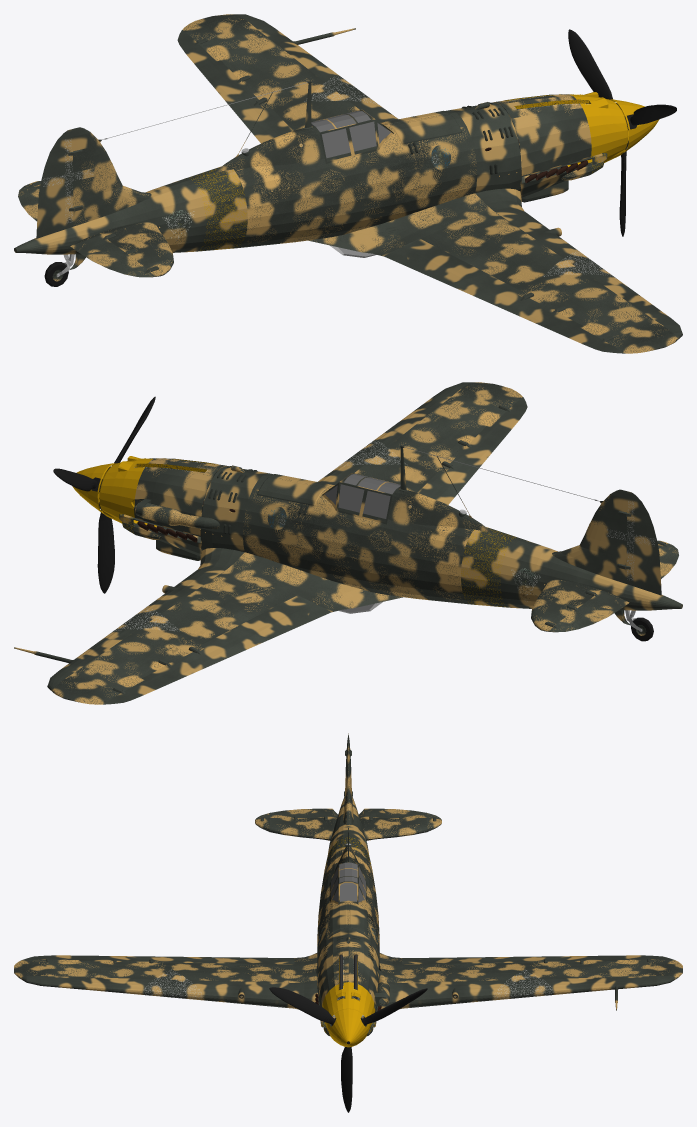
3 views of the same model, one above another, from view 1: azimuth 30°, elevation 25°; view 2: azimuth 150°, elevation 25°; view 3: azimuth 270°, elevation 25° (orthographic). The views are drawn at different scales.
Visible parts, largest first — view 1: mesh127.002_mesh127-geometry, mesh94.003_mesh94-geometry, mesh25.003_mesh25-geometry, mesh162.002_mesh162-geometry, mesh89.004_mesh89-geometry, mesh149.002_mesh149-geometry, mesh113.003_mesh113-geometry, mesh83.004_mesh83-geometry, mesh158.002_mesh158-geometry, mesh20.004_mesh20-geometry, mesh15.004_mesh15-geometry, mesh99.003_mesh99-geometry (+13 smaller); view 2: mesh58.002_mesh58-geometry, mesh25.003_mesh25-geometry, mesh94.003_mesh94-geometry, mesh161.002_mesh161-geometry, mesh20.004_mesh20-geometry, mesh149.002_mesh149-geometry, mesh44.003_mesh44-geometry, mesh14.004_mesh14-geometry, mesh158.002_mesh158-geometry, mesh89.004_mesh89-geometry, mesh84.004_mesh84-geometry, mesh30.003_mesh30-geometry (+13 smaller); view 3: mesh94.003_mesh94-geometry, mesh25.003_mesh25-geometry, mesh20.004_mesh20-geometry, mesh89.004_mesh89-geometry, mesh127.002_mesh127-geometry, mesh58.002_mesh58-geometry, mesh162.002_mesh162-geometry, mesh161.002_mesh161-geometry, mesh99.003_mesh99-geometry, mesh30.003_mesh30-geometry, mesh3.002_mesh3-geometry, mesh83.004_mesh83-geometry (+11 smaller).
Boxes of the visible parts, x1,y1,x2,y2 form: mesh127.002_mesh127-geometry: [14, 112, 477, 254]; mesh94.003_mesh94-geometry: [308, 193, 677, 353]; mesh25.003_mesh25-geometry: [182, 14, 359, 130]; mesh162.002_mesh162-geometry: [501, 96, 628, 175]; mesh89.004_mesh89-geometry: [475, 188, 682, 339]; mesh149.002_mesh149-geometry: [73, 130, 151, 226]; mesh113.003_mesh113-geometry: [456, 105, 521, 193]; mesh83.004_mesh83-geometry: [384, 238, 522, 304]; mesh158.002_mesh158-geometry: [36, 127, 87, 238]; mesh20.004_mesh20-geometry: [237, 14, 398, 122]; mesh15.004_mesh15-geometry: [177, 30, 264, 119]; mesh99.003_mesh99-geometry: [99, 222, 173, 276]; mesh58.002_mesh58-geometry: [243, 475, 682, 610]; mesh25.003_mesh25-geometry: [52, 552, 402, 704]; mesh94.003_mesh94-geometry: [354, 382, 522, 492]; mesh161.002_mesh161-geometry: [99, 460, 220, 535]; mesh20.004_mesh20-geometry: [47, 548, 244, 691]; mesh149.002_mesh149-geometry: [552, 492, 626, 583]; mesh44.003_mesh44-geometry: [201, 468, 262, 552]; mesh14.004_mesh14-geometry: [200, 595, 331, 658]; mesh158.002_mesh158-geometry: [612, 489, 661, 595]; mesh89.004_mesh89-geometry: [318, 382, 470, 485]; mesh84.004_mesh84-geometry: [445, 397, 527, 482]; mesh30.003_mesh30-geometry: [531, 579, 601, 631]; mesh94.003_mesh94-geometry: [14, 953, 344, 1000]; mesh25.003_mesh25-geometry: [352, 953, 682, 1000]; mesh20.004_mesh20-geometry: [361, 976, 676, 1017]; mesh89.004_mesh89-geometry: [20, 976, 335, 1017]; mesh127.002_mesh127-geometry: [317, 797, 348, 962]; mesh58.002_mesh58-geometry: [348, 797, 379, 962]; mesh162.002_mesh162-geometry: [317, 948, 348, 1030]; mesh161.002_mesh161-geometry: [348, 948, 378, 1030]; mesh99.003_mesh99-geometry: [255, 817, 336, 840]; mesh30.003_mesh30-geometry: [360, 817, 441, 840]; mesh3.002_mesh3-geometry: [328, 1008, 368, 1047]; mesh83.004_mesh83-geometry: [161, 956, 294, 964].
Bounding box in the file's own units: 0.6192 × 0.2224 × 0.7531.
Materials: 11 (2 with a texture image).
